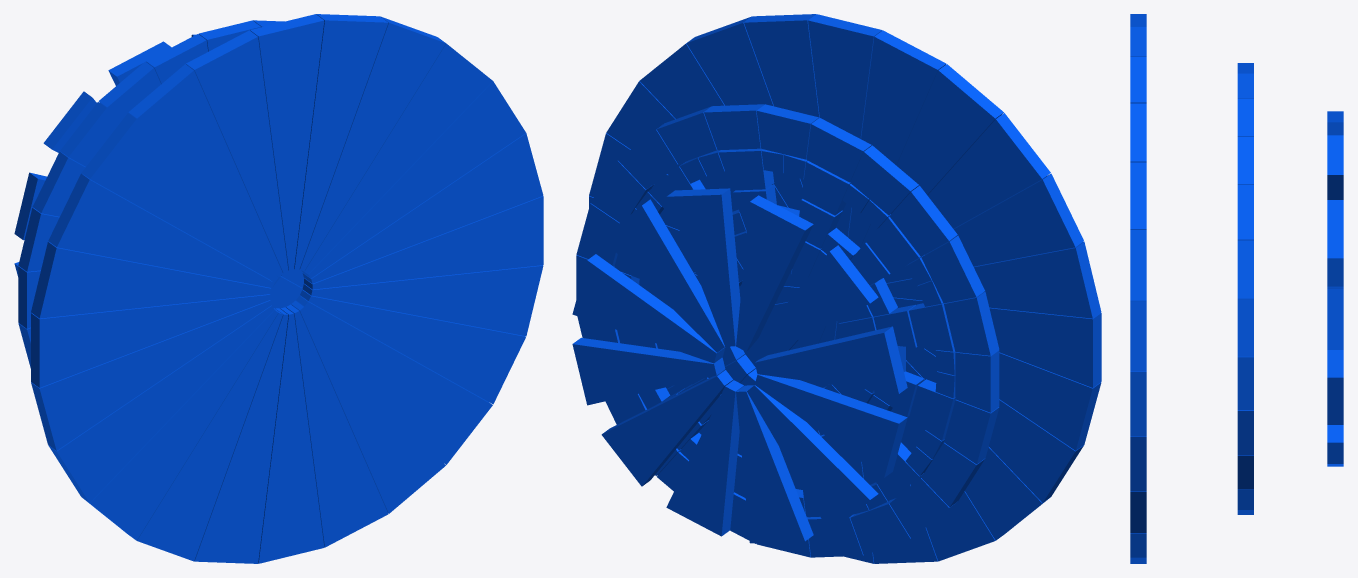
The model's file is positive-endcap-chambers.obj.
3 views of the same model, side by side, from view 1: azimuth 30°, elevation 25°; view 2: azimuth 150°, elevation 25°; view 3: azimuth 270°, elevation 25° (orthographic). The views are drawn at different scales.
Visible parts, largest first — view 1: chamber_EP3_WHEEL_S10, chamber_EP3_WHEEL_S08, chamber_EP3_WHEEL_S11, chamber_EP3_WHEEL_S07, chamber_EP3_WHEEL_S09, chamber_EP3_WHEEL_S12, chamber_EP3_WHEEL_S06, chamber_EP3_WHEEL_S13, chamber_EP3_WHEEL_S05, chamber_EP3_WHEEL_S14, chamber_EP3_WHEEL_S04, chamber_EP3_WHEEL_S21 (+22 smaller); view 2: chamber_EP3_WHEEL_S11, chamber_EP3_WHEEL_S10, chamber_EP3_WHEEL_S07, chamber_EP3_WHEEL_S08, chamber_EP3_WHEEL_S09, chamber_EP1_WHEEL_S02, chamber_EP1_WHEEL_S06, chamber_EP1_WHEEL_S07, chamber_EP1_WHEEL_S08, chamber_EP1_WHEEL_S01, chamber_EP1_WHEEL_S00, chamber_EP3_WHEEL_S12 (+52 smaller); view 3: chamber_EP1_WHEEL_S01, chamber_EP1_WHEEL_S11, chamber_EP3_WHEEL_S01, chamber_EP3_WHEEL_S02, chamber_EP3_WHEEL_S03, chamber_EP3_WHEEL_S00, chamber_EP1_WHEEL_S02, chamber_EP1_WHEEL_S00, chamber_EP3_WHEEL_S04, chamber_EP2_S02_R04, chamber_EP2_S01_R04, chamber_EP2_S03_R04 (+14 smaller).
Part boxes in pixels (x1=…): chamber_EP3_WHEEL_S10: x1=48, y1=173, x2=274, y2=287; chamber_EP3_WHEEL_S08: x1=128, y1=64, x2=282, y2=277; chamber_EP3_WHEEL_S11: x1=31, y1=241, x2=271, y2=318; chamber_EP3_WHEEL_S07: x1=186, y1=30, x2=288, y2=273; chamber_EP3_WHEEL_S09: x1=81, y1=113, x2=277, y2=282; chamber_EP3_WHEEL_S12: x1=31, y1=294, x2=270, y2=387; chamber_EP3_WHEEL_S06: x1=250, y1=14, x2=324, y2=270; chamber_EP3_WHEEL_S13: x1=31, y1=300, x2=271, y2=450; chamber_EP3_WHEEL_S05: x1=294, y1=14, x2=388, y2=269; chamber_EP3_WHEEL_S14: x1=48, y1=305, x2=274, y2=502; chamber_EP3_WHEEL_S04: x1=299, y1=16, x2=445, y2=270; chamber_EP3_WHEEL_S21: x1=296, y1=295, x2=492, y2=464; chamber_EP3_WHEEL_S11: x1=886, y1=241, x2=1101, y2=318; chamber_EP3_WHEEL_S10: x1=884, y1=173, x2=1083, y2=282; chamber_EP3_WHEEL_S07: x1=848, y1=30, x2=946, y2=247; chamber_EP3_WHEEL_S08: x1=860, y1=64, x2=1003, y2=247; chamber_EP3_WHEEL_S09: x1=927, y1=113, x2=1050, y2=228; chamber_EP1_WHEEL_S02: x1=666, y1=188, x2=740, y2=346; chamber_EP1_WHEEL_S06: x1=754, y1=374, x2=907, y2=477; chamber_EP1_WHEEL_S07: x1=747, y1=385, x2=878, y2=532; chamber_EP1_WHEEL_S08: x1=736, y1=385, x2=813, y2=543; chamber_EP1_WHEEL_S01: x1=601, y1=199, x2=724, y2=352; chamber_EP1_WHEEL_S00: x1=572, y1=254, x2=725, y2=363; chamber_EP3_WHEEL_S12: x1=893, y1=297, x2=1101, y2=387; chamber_EP1_WHEEL_S01: x1=1327, y1=200, x2=1343, y2=286; chamber_EP1_WHEEL_S11: x1=1327, y1=350, x2=1343, y2=424; chamber_EP3_WHEEL_S01: x1=1130, y1=300, x2=1146, y2=371; chamber_EP3_WHEEL_S02: x1=1130, y1=229, x2=1146, y2=300; chamber_EP3_WHEEL_S03: x1=1130, y1=162, x2=1146, y2=229; chamber_EP3_WHEEL_S00: x1=1130, y1=371, x2=1146, y2=436; chamber_EP1_WHEEL_S02: x1=1327, y1=135, x2=1343, y2=199; chamber_EP1_WHEEL_S00: x1=1327, y1=287, x2=1343, y2=349; chamber_EP3_WHEEL_S04: x1=1130, y1=103, x2=1146, y2=162; chamber_EP2_S02_R04: x1=1237, y1=240, x2=1253, y2=298; chamber_EP2_S01_R04: x1=1237, y1=298, x2=1253, y2=356; chamber_EP2_S03_R04: x1=1237, y1=184, x2=1253, y2=240.
Bounding box in the file's own units: 16.76 × 16.76 × 6.55.
